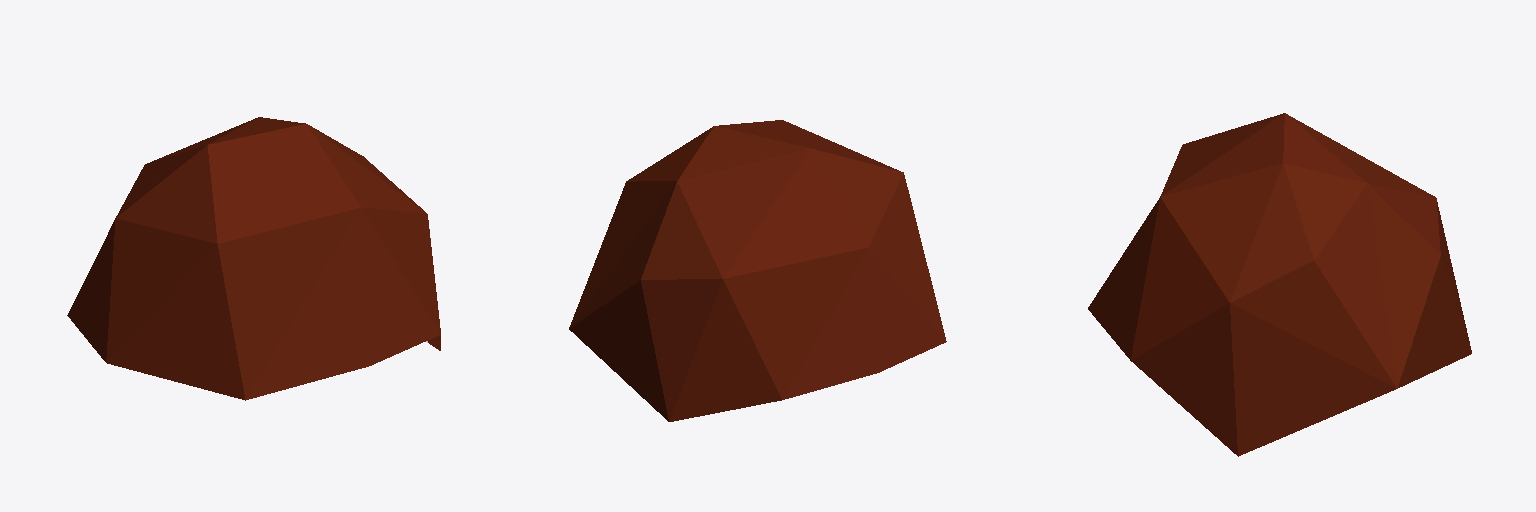
File: coconut_top.obj
3 renders of one model, left to right at view 1: azimuth 30°, elevation 25°; view 2: azimuth 150°, elevation 25°; view 3: azimuth 270°, elevation 25°, orthographic.
Visible parts, largest first — view 1: coconut_top; view 2: coconut_top; view 3: coconut_top.
Boxes of the visible parts, <box> form: coconut_top: <box>67,117,440,400</box>; coconut_top: <box>569,120,946,421</box>; coconut_top: <box>1088,113,1471,456</box>.
Bounding box in the file's own units: 1.6 × 1.12 × 1.62.